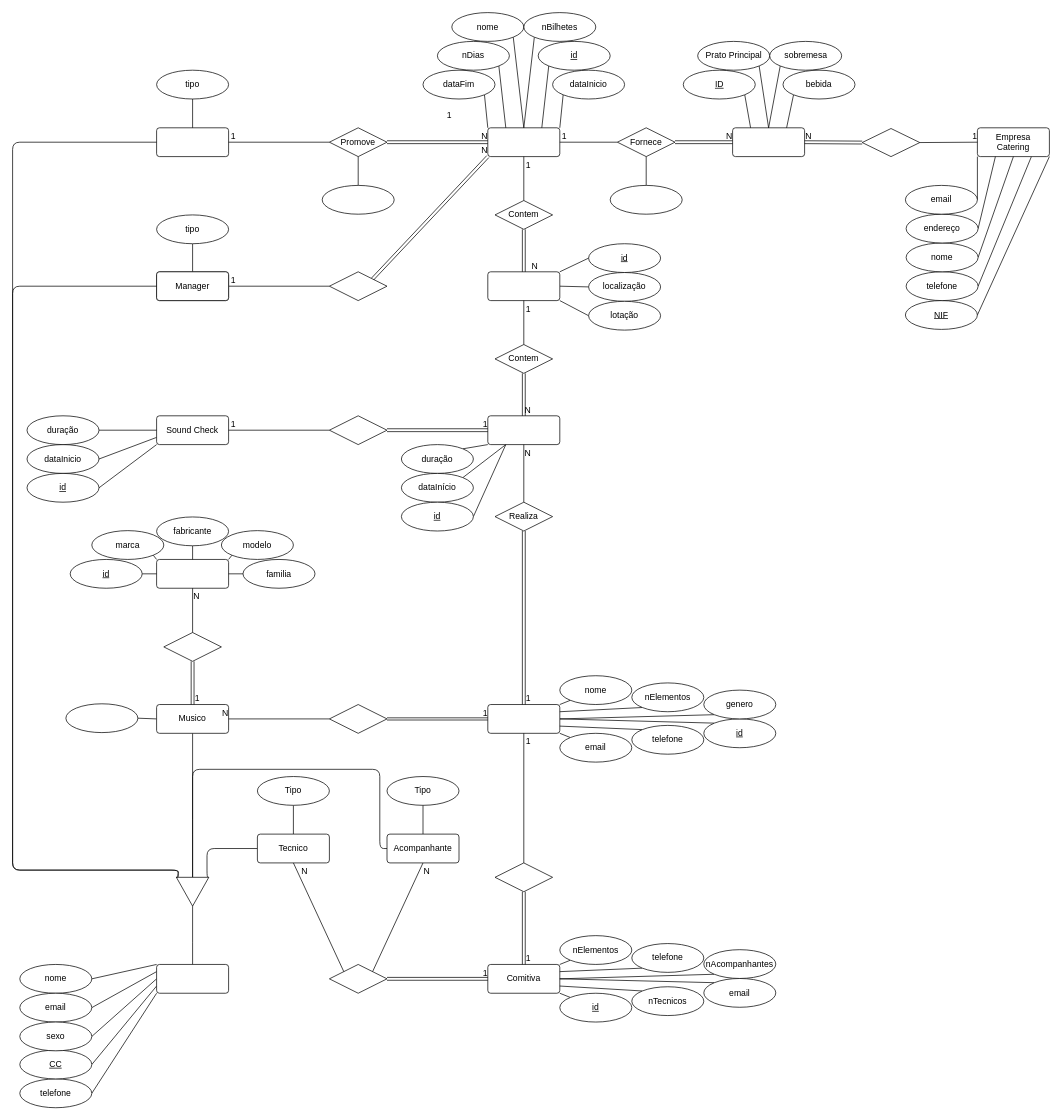
The diagram is 1063 pixels wide and 1120 high, and some of its shapes have lost their labels. The shapes that lost their labels are listed below. From the top down, each one's centre as x and y in pixels, then its label:
point 192,142: Promotor
point 523,142: Evento
point 768,142: Refeição
point 890,142: Prepara
point 357,199: Data
point 645,199: Horário
point 358,286: Gere
point 523,286: Palco
point 358,430: Precisa
point 523,430: Concerto
point 192,573: Instrumento
point 192,646: Toca
point 101,718: nomeArtistico
point 358,718: Constituida
point 523,718: Banda
point 192,891: IS A
point 523,877: Acompanha
point 192,978: Pessoa
point 358,978: Tem
